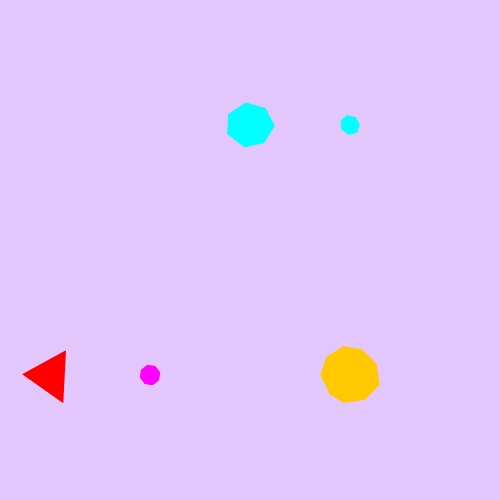heptagon: (223, 99, 277, 151), (336, 111, 365, 139)
nonagon: (317, 344, 383, 407)
octagon: (135, 360, 165, 390)
triangle: (24, 348, 76, 403)
